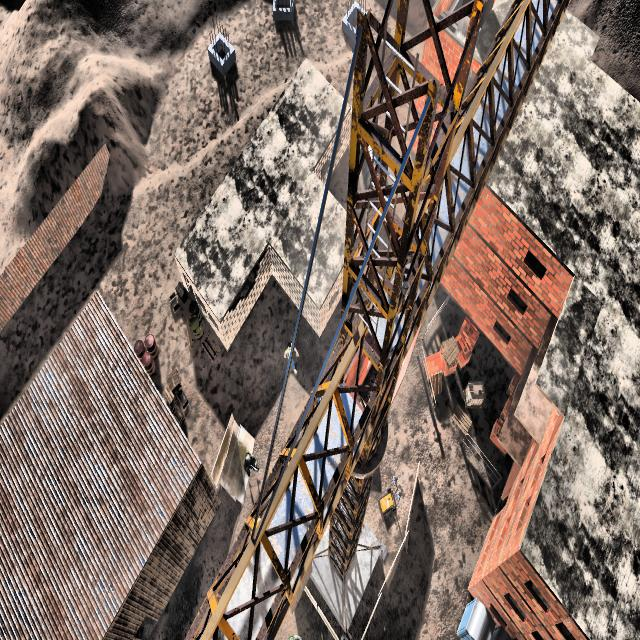good: (282, 329, 302, 382)
